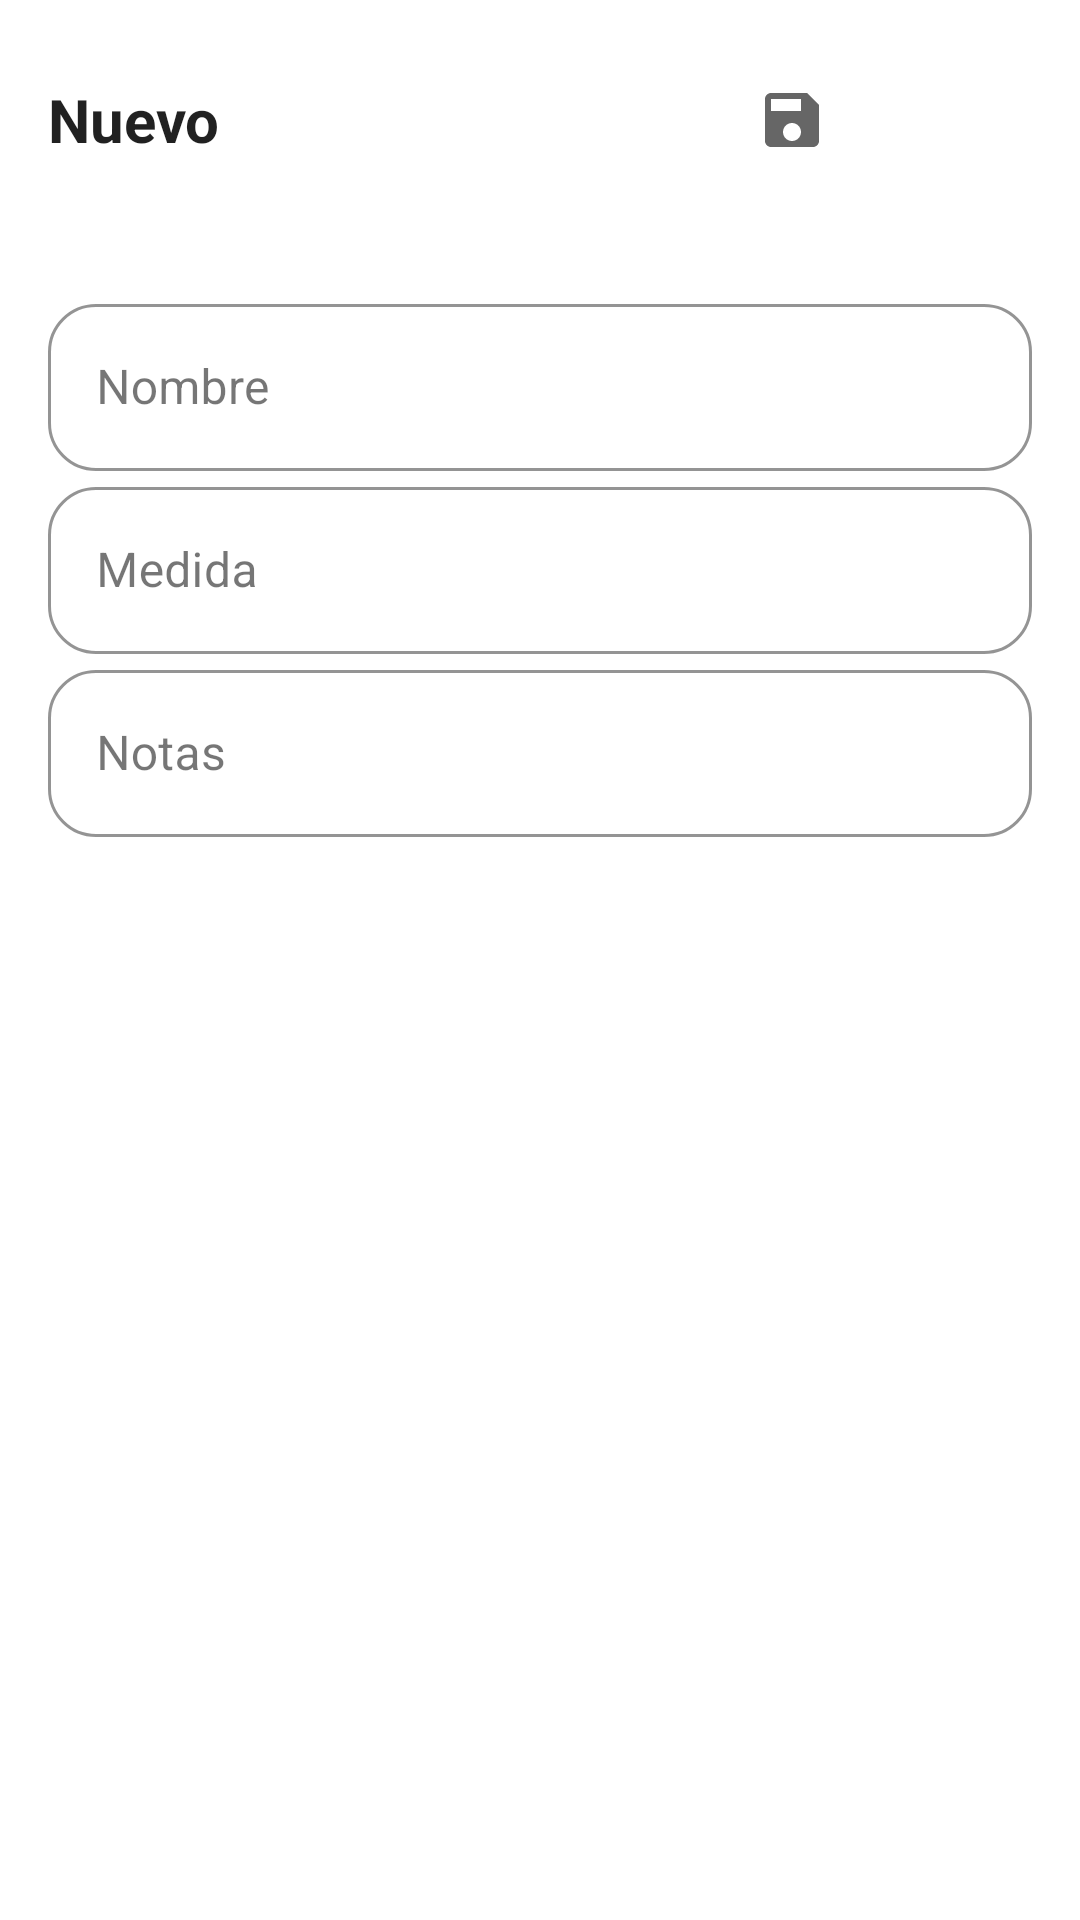

Named icons in this screenshot (1080×1920) and their centers, (x,y):
Guardar: (792,120)
